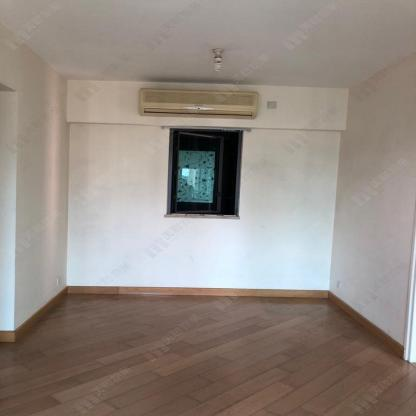AC: (136, 87, 259, 120)
